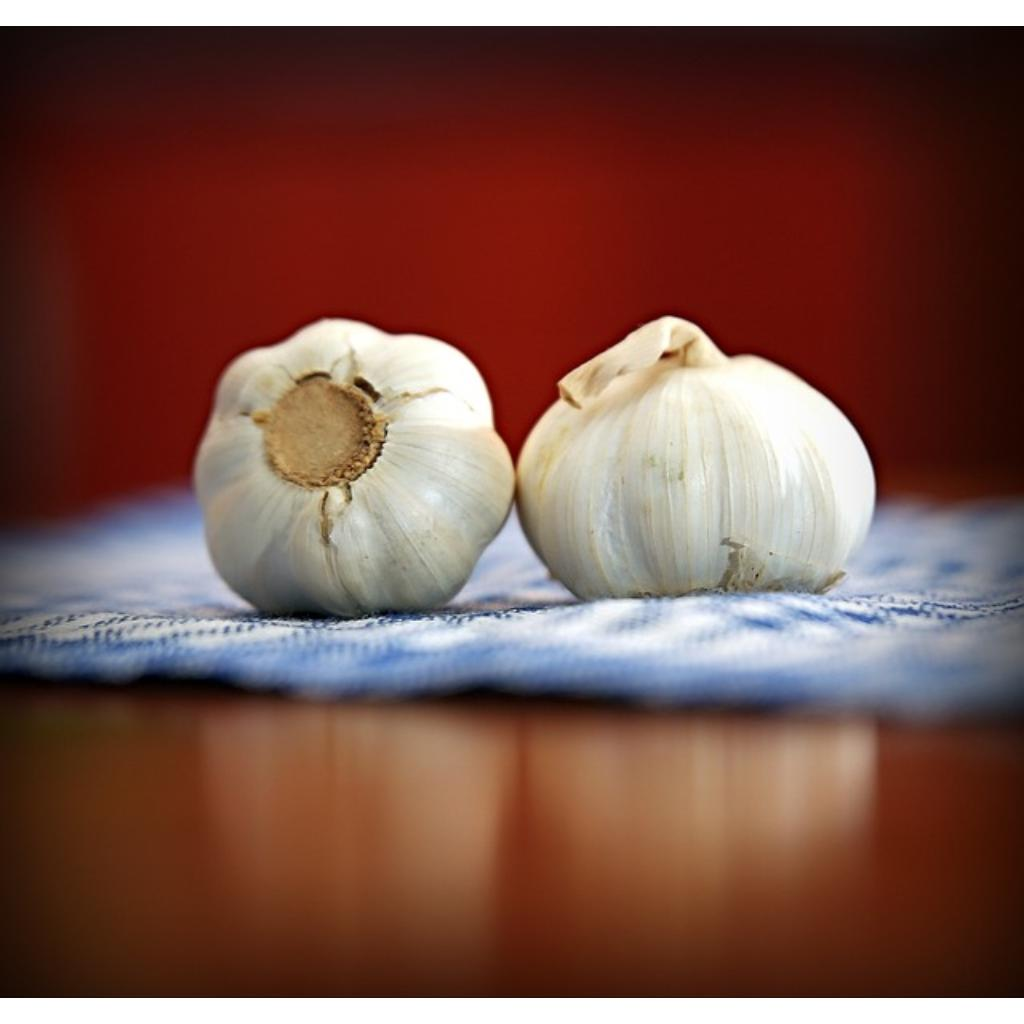garlic: (516, 316, 874, 599), (194, 320, 514, 617)
